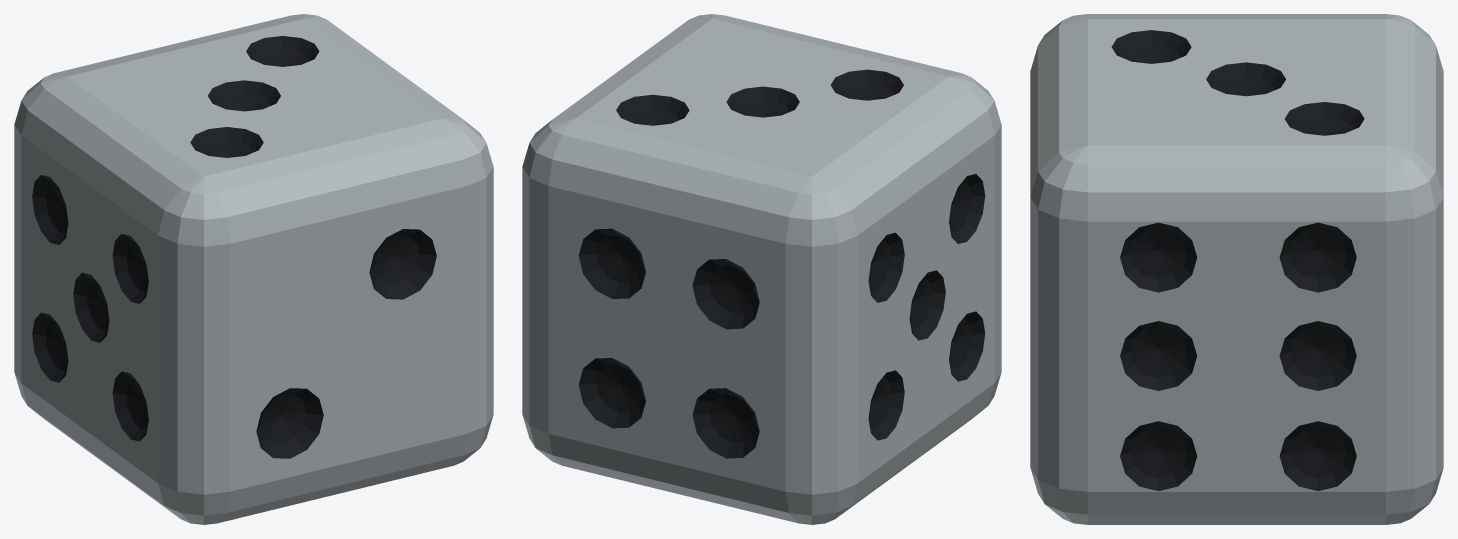
File: dice.fbx
The picture shows the model from 3 angles, left to right: view 1: azimuth 30°, elevation 25°; view 2: azimuth 150°, elevation 25°; view 3: azimuth 270°, elevation 25°; orthographic projection. The views are drawn at different scales.
Parts seen in each view (by area): view 1: Boole_1; view 2: Boole_1; view 3: Boole_1.
Part boxes in pixels (x1,y1,x2,y2): Boole_1: (14, 14, 493, 524); Boole_1: (522, 14, 1001, 524); Boole_1: (1030, 14, 1443, 524).
Bounding box in the file's own units: 100 × 100 × 100.
